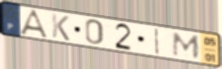0: (84, 18, 105, 46)
2: (113, 23, 134, 52)
A: (18, 8, 52, 41)
I: (154, 27, 160, 56)
K: (51, 12, 72, 43)
M: (171, 31, 202, 60)
